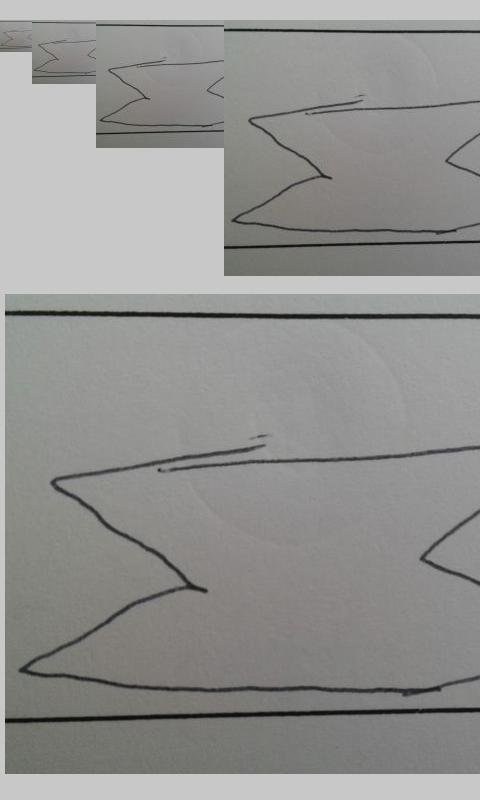edit_text: (19, 446, 480, 696), (231, 97, 480, 236), (100, 58, 222, 128), (35, 39, 95, 73), (2, 29, 31, 47)
